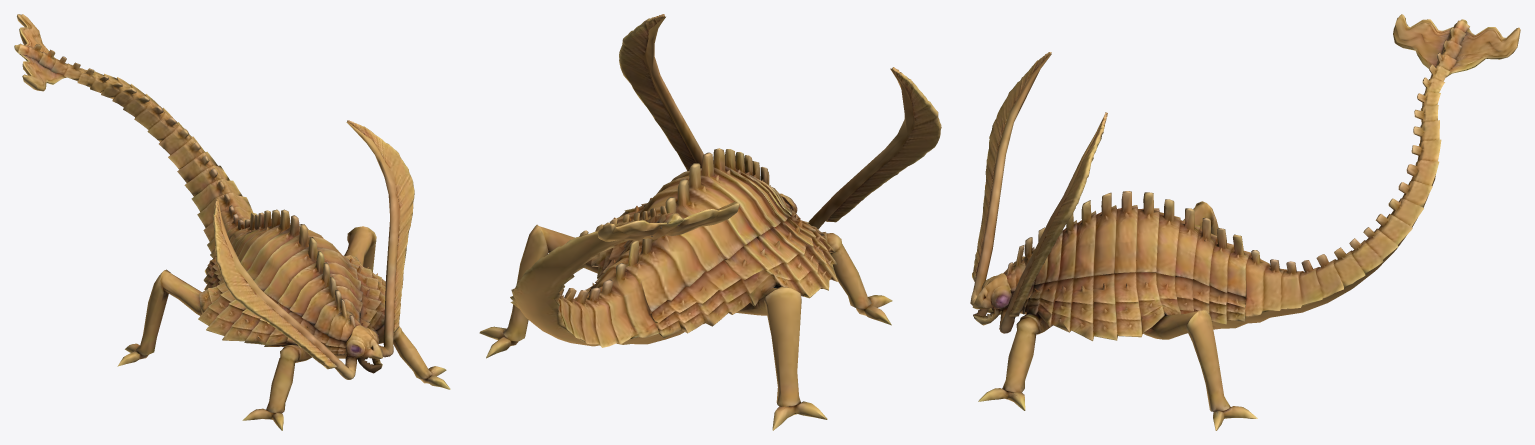
The model's file is MZ4250 - Rust Monster_1 2025.glb.
The picture shows the model from 3 angles, left to right: view 1: azimuth 30°, elevation 25°; view 2: azimuth 150°, elevation 25°; view 3: azimuth 270°, elevation 25°; orthographic projection. The views are drawn at different scales.
Visible parts, largest first — view 1: Rust Monster.001; view 2: Rust Monster.001; view 3: Rust Monster.001.
Part boxes in pixels (x1,y1,x2,y2): Rust Monster.001: [14, 14, 450, 430]; Rust Monster.001: [479, 14, 941, 430]; Rust Monster.001: [970, 14, 1520, 430].
Bounding box in the file's own units: 61.17 × 50.08 × 90.67.
1 material, 1 textured.
